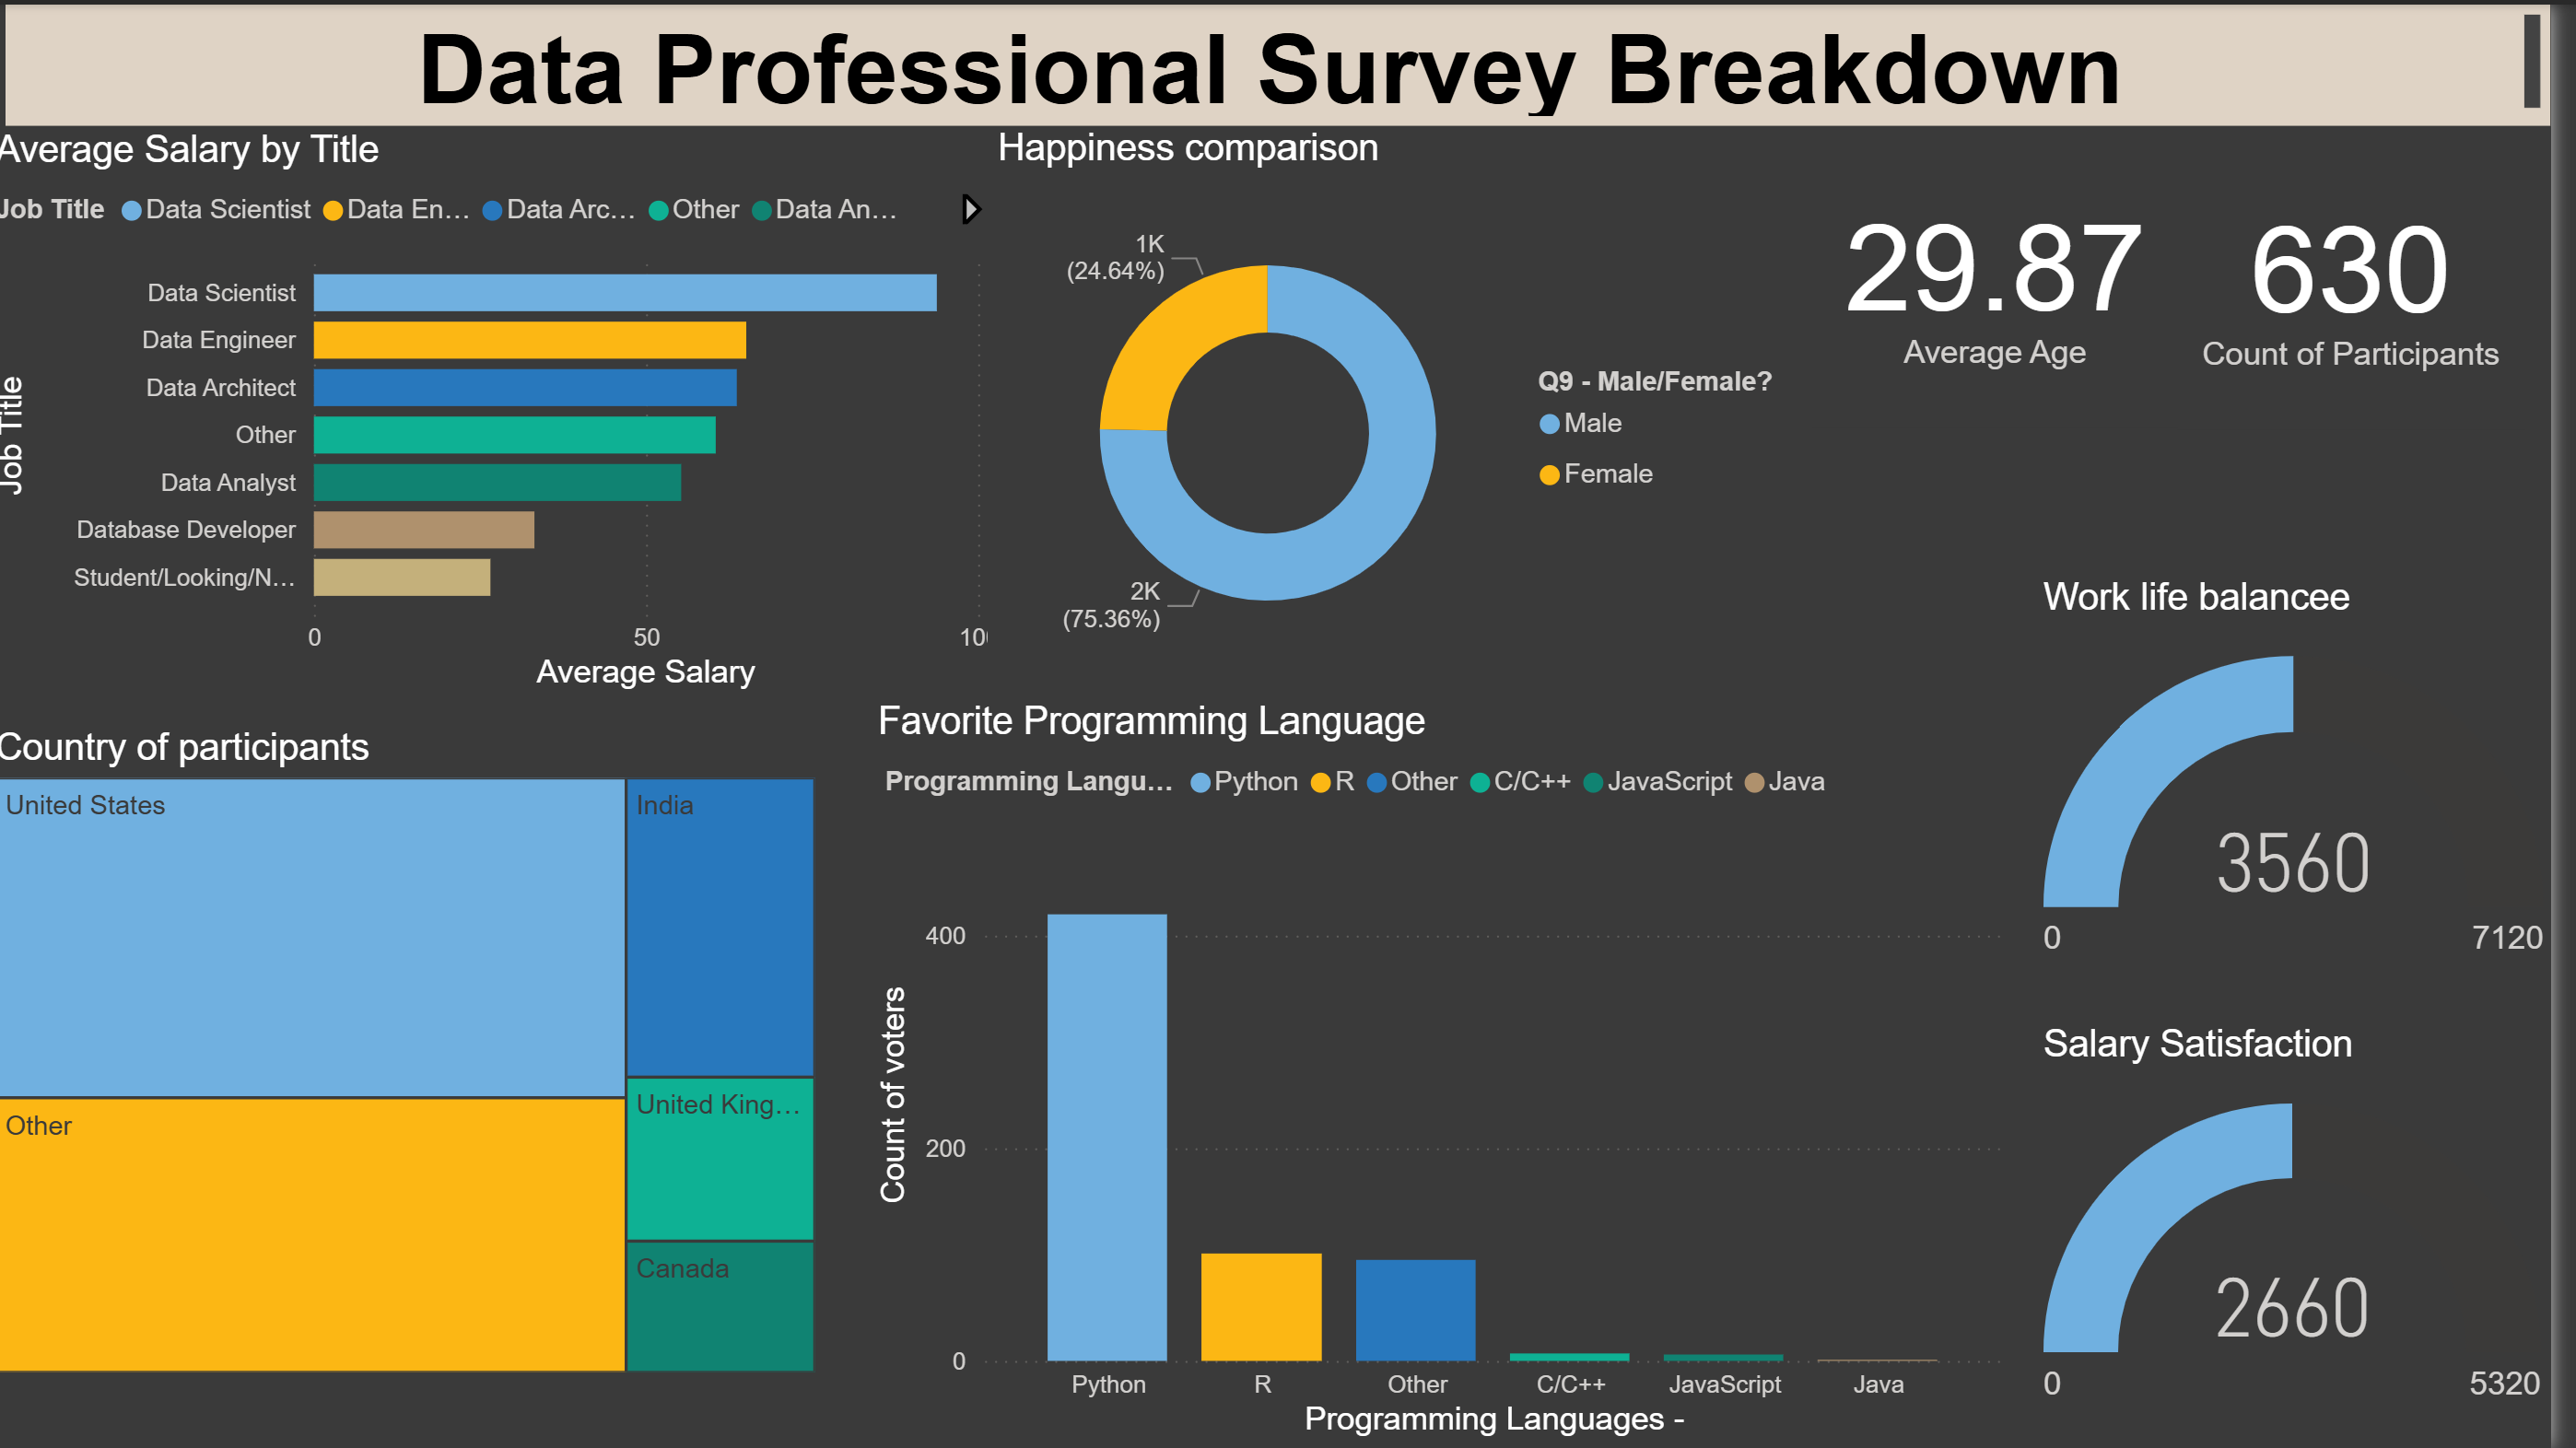

The page's visual inventory and layout, read from the dashboard file:
{"tool":"powerbi","page":{"name":"Page 1","canvas":[1280,720],"ordinal":0},"visuals":[{"type":"textbox","box":[10.3,0,1269.7,60.4],"z":0},{"type":"card","fields":{"Values":["CountNonNull(Data Professional Survey.Unique ID)"]},"box":[1093.7,61.7,173.5,150.4],"z":1},{"type":"card","fields":{"Values":["Avg(Data Professional Survey.Q10 - Current Age)"]},"box":[911.2,60.4,182.5,150.4],"z":2},{"type":"barChart","title":"Average Salary by Title ","fields":{"Category":["Data Professional Survey.Q1 - Which Title Best Fits your Current Role?.1"],"Y":["Avg(Data Professional Survey.Average Column)"],"Series":["Data Professional Survey.Q1 - Which Title Best Fits your Current Role?.1"]},"box":[0,61.7,511.5,285.3],"z":3},{"type":"columnChart","title":"Favorite Programming Language","fields":{"Category":["Data Professional Survey.Q5 - Favorite Programming Language.1"],"Y":["CountNonNull(Data Professional Survey.Unique ID)"],"Series":["Data Professional Survey.Q5 - Favorite Programming Language.1"]},"box":[440.8,347,570.6,372.7],"z":4},{"type":"treemap","title":"Country of participants","fields":{"Group":["Data Professional Survey.Q11 - Which Country do you live in?.1"],"Values":["CountNonNull(Data Professional Survey.Q11 - Which Country do you live in?.1)"]},"box":[0,359.8,419,327.7],"z":5},{"type":"gauge","title":"Work life balancee","fields":{"Y":["Sum(Data Professional Survey.Q6 - How Happy are you in your Current Position with the following? (Work/Life Balance))"]},"box":[1021.7,285.3,259.6,212],"z":6},{"type":"gauge","title":"Salary Satisfaction","fields":{"Y":["Sum(Data Professional Survey.Q6 - How Happy are you in your Current Position with the following? (Salary))"]},"box":[1021.7,507.6,258.3,212],"z":7},{"type":"donutChart","title":"Happiness comparison","fields":{"Category":["Data Professional Survey.Q9 - Male/Female?"],"Y":["Sum(Data Professional Survey.Q6 - How Happy are you in your Current Position with the following? (Management))"]},"box":[499.9,60.4,411.2,285.3],"z":8}]}

Visuals, with their boxes in screenshot pixels (x1, y1, x2, y2), scaled from the page's 1280x720 canvas onto the 2576x1448 screenshot:
textbox: (20, 0, 2575, 122)
card - CountNonNull(Data Professional Survey.Unique ID): (2201, 124, 2550, 426)
card - Avg(Data Professional Survey.Q10 - Current Age): (1833, 122, 2201, 424)
"Average Salary by Title " barChart: (0, 124, 1029, 698)
"Favorite Programming Language" columnChart: (887, 698, 2035, 1447)
"Country of participants" treemap: (0, 724, 843, 1383)
"Work life balancee" gauge: (2056, 574, 2575, 1000)
"Salary Satisfaction" gauge: (2056, 1021, 2575, 1447)
"Happiness comparison" donutChart: (1006, 122, 1833, 695)
